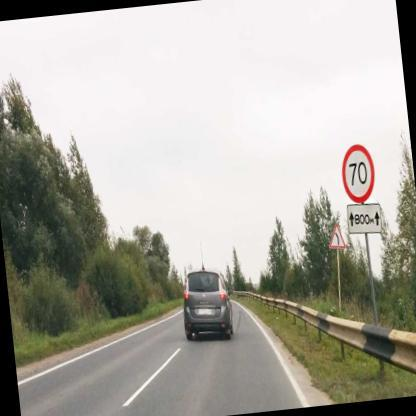road_sign: (341, 144, 374, 202), (348, 204, 384, 233), (329, 222, 348, 249)
